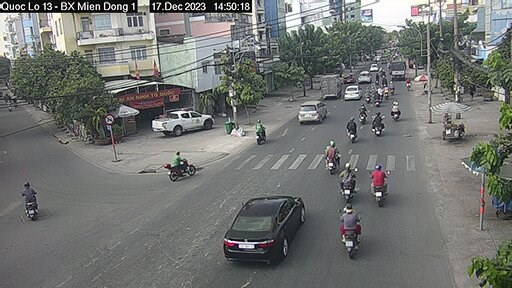car: (219, 180, 308, 273), (141, 104, 216, 136), (295, 85, 325, 130), (345, 84, 360, 101)
motorbike: (159, 155, 208, 181), (339, 204, 362, 257), (365, 160, 390, 206), (16, 183, 42, 226), (342, 115, 362, 145), (250, 118, 268, 150), (337, 161, 351, 194), (326, 138, 342, 166)
truck: (318, 72, 348, 100), (387, 60, 409, 84)
